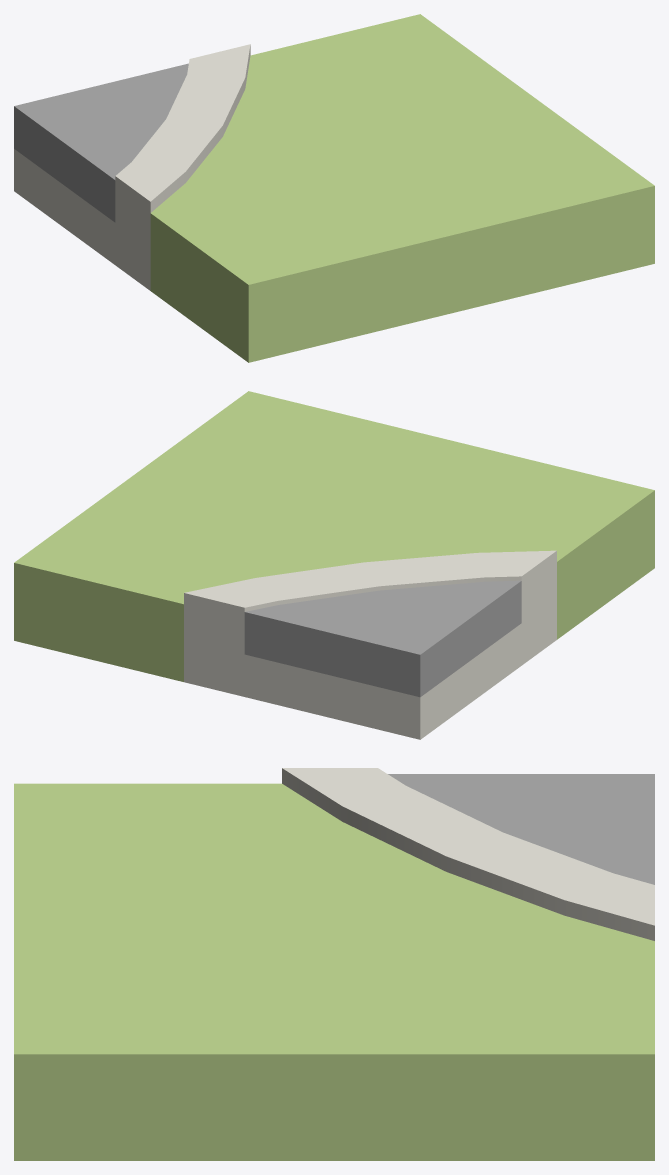
The model's file is road_tile_052.glb.
The picture shows the model from 3 angles, top to bottom: view 1: azimuth 30°, elevation 25°; view 2: azimuth 150°, elevation 25°; view 3: azimuth 270°, elevation 25°; orthographic projection. The views are drawn at different scales.
Parts seen in each view (by area): view 1: roadTile_052; view 2: roadTile_052; view 3: roadTile_052.
Boxes of the visible parts, x1=… form: roadTile_052: x1=14, y1=14, x2=654, y2=362; roadTile_052: x1=14, y1=391, x2=654, y2=739; roadTile_052: x1=14, y1=768, x2=654, y2=1160.
Size of the model in its own units: 3 by 0.63 by 3.
